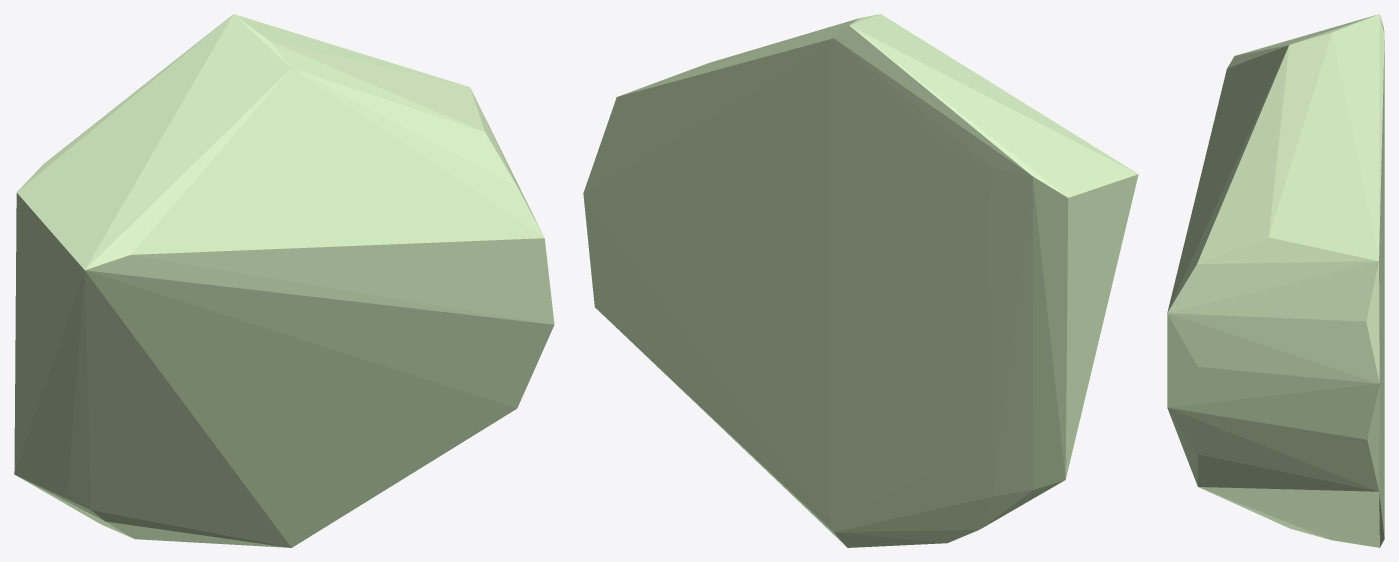
File: iiwa_robot_base_coll_8.obj
3 views of the same model, side by side, from view 1: azimuth 30°, elevation 25°; view 2: azimuth 150°, elevation 25°; view 3: azimuth 270°, elevation 25° (orthographic).
Visible parts, largest first — view 1: node; view 2: node; view 3: node.
Boxes of the visible parts, x1,y1,x2,y2 form: node: (14, 14, 554, 547); node: (583, 14, 1138, 547); node: (1167, 14, 1384, 547).
Size of the model in its own units: 0.2363 by 0.2438 by 0.0901.
